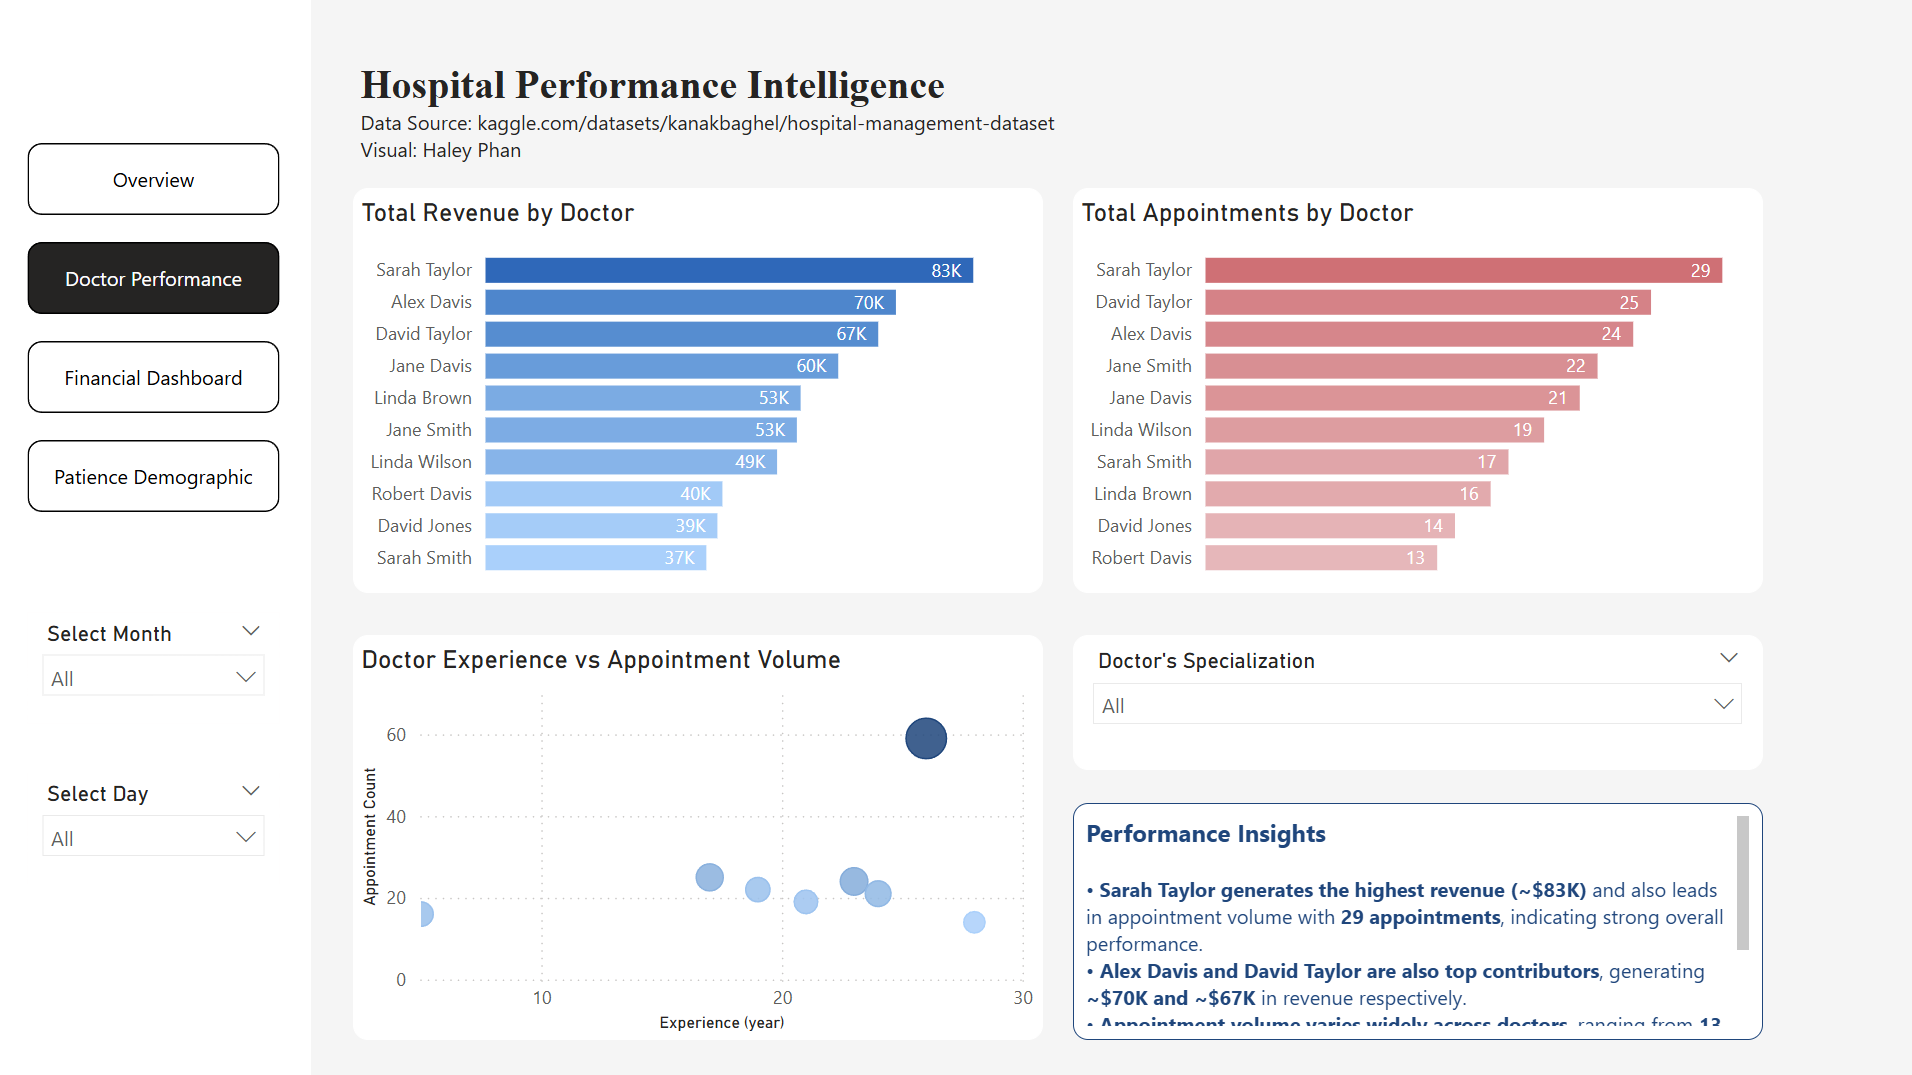

Layout of this report page (visuals, bound fields, positions):
{"tool":"powerbi","page":{"name":"Doctor Performance","canvas":[1280,720],"ordinal":1},"visuals":[{"type":"barChart","title":"Total Appointments by Doctor ","fields":{"Category":["doctors.Doctor Name"],"Y":["appointments.Total Appointments"]},"box":[717.5,126.2,460,270],"z":0},{"type":"barChart","title":"Total Revenue by Doctor","fields":{"Category":["doctors.Doctor Name"],"Y":["billing.Total Revenue"]},"box":[237.5,126.2,460,270],"z":1000},{"type":"scatterChart","title":"Doctor Experience vs Appointment Volume","fields":{"X":["doctors.years_experience"],"Y":["appointments.Total Appointments"],"Size":["billing.Total Revenue"]},"box":[237.5,423.8,460,270],"z":2000},{"type":"slicer","fields":{"Values":["doctors.specialization"]},"box":[717.5,423.8,460,90],"z":3000},{"type":"shape","box":[0,0,210,720],"z":4000},{"type":"pageNavigator","box":[21.2,96.2,167.5,248.8],"z":5000},{"type":"slicer","fields":{"Values":["appointments.appointment_date.Variation.Date Hierarchy.Month"]},"box":[21.2,408.8,167.5,73.8],"z":5001},{"type":"slicer","fields":{"Values":["appointments.appointment_date.Variation.Date Hierarchy.Day"]},"box":[21.2,516.2,167.5,73.8],"z":5002},{"type":"textbox","box":[237.5,36.2,480,85],"z":5003},{"type":"textbox","box":[717.5,536.2,460,157.5],"z":5004}]}

Visuals, with their boxes on the page's 1280x720 design canvas (x1, y1, x2, y2). These are canvas units, not pixel positions in the 1912x1075 screenshot, which may show the page scaled, cropped or inside an application window:
"Total Appointments by Doctor " barChart: locate(718, 126, 1178, 396)
"Total Revenue by Doctor" barChart: locate(238, 126, 698, 396)
"Doctor Experience vs Appointment Volume" scatterChart: locate(238, 424, 698, 694)
slicer - doctors.specialization: locate(718, 424, 1178, 514)
shape: locate(0, 0, 210, 720)
pageNavigator: locate(21, 96, 189, 345)
slicer - appointments.appointment_date.Variation.Date Hierarchy.Month: locate(21, 409, 189, 483)
slicer - appointments.appointment_date.Variation.Date Hierarchy.Day: locate(21, 516, 189, 590)
textbox: locate(238, 36, 718, 121)
textbox: locate(718, 536, 1178, 694)
